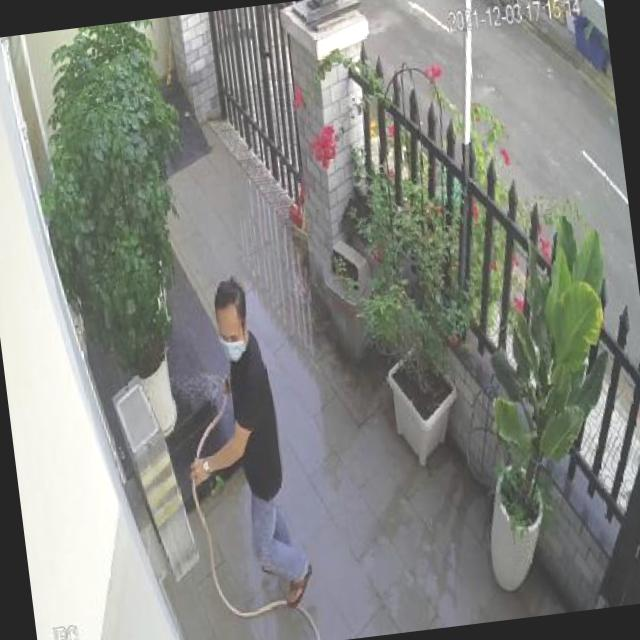Person: (166, 273, 315, 619)
